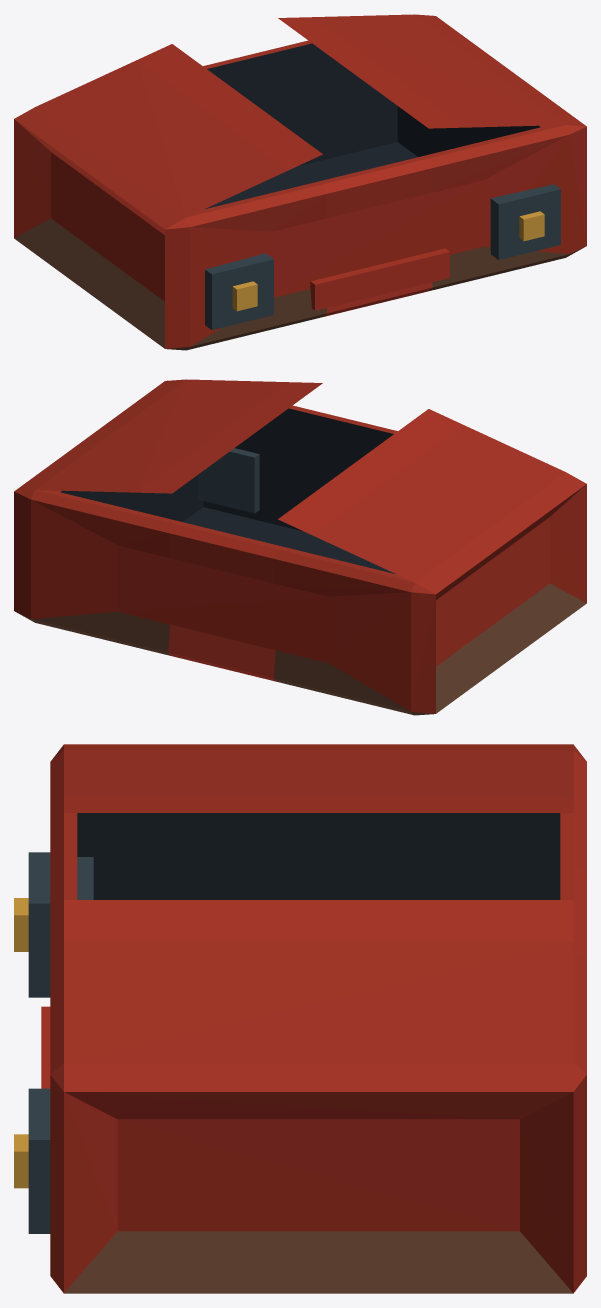
File: fish-crate-coral.glb
3 renders of one model, top to bottom at view 1: azimuth 30°, elevation 25°; view 2: azimuth 150°, elevation 25°; view 3: azimuth 270°, elevation 25°, orthographic. The views are drawn at different scales.
Visible parts, largest first — view 1: fish-crate-coral; view 2: fish-crate-coral; view 3: fish-crate-coral.
Boxes of the visible parts, bbox=[...] form: fish-crate-coral: bbox=[14, 14, 586, 350]; fish-crate-coral: bbox=[14, 379, 586, 715]; fish-crate-coral: bbox=[14, 744, 586, 1293].
Size of the model in its own units: 0.95 by 0.35 by 0.6621.
